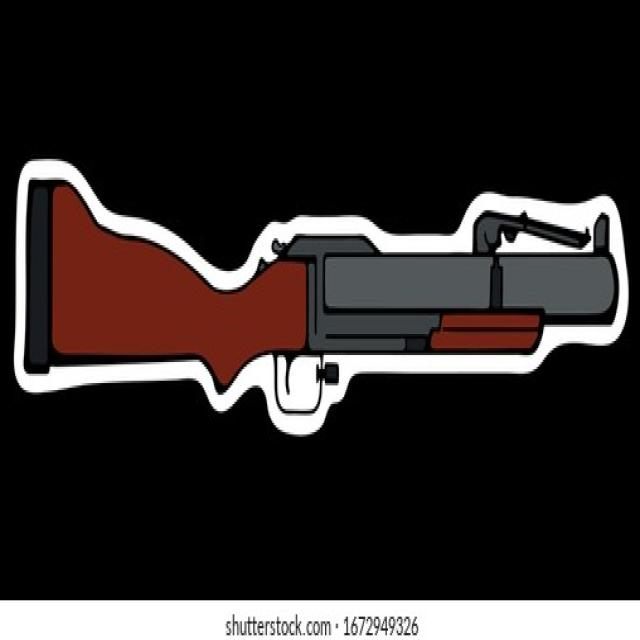Weapon: (14, 159, 627, 432)
